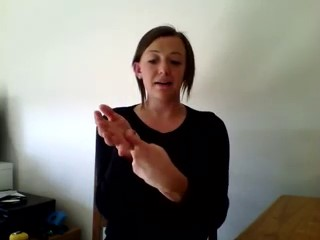R: (90, 100, 182, 191)
